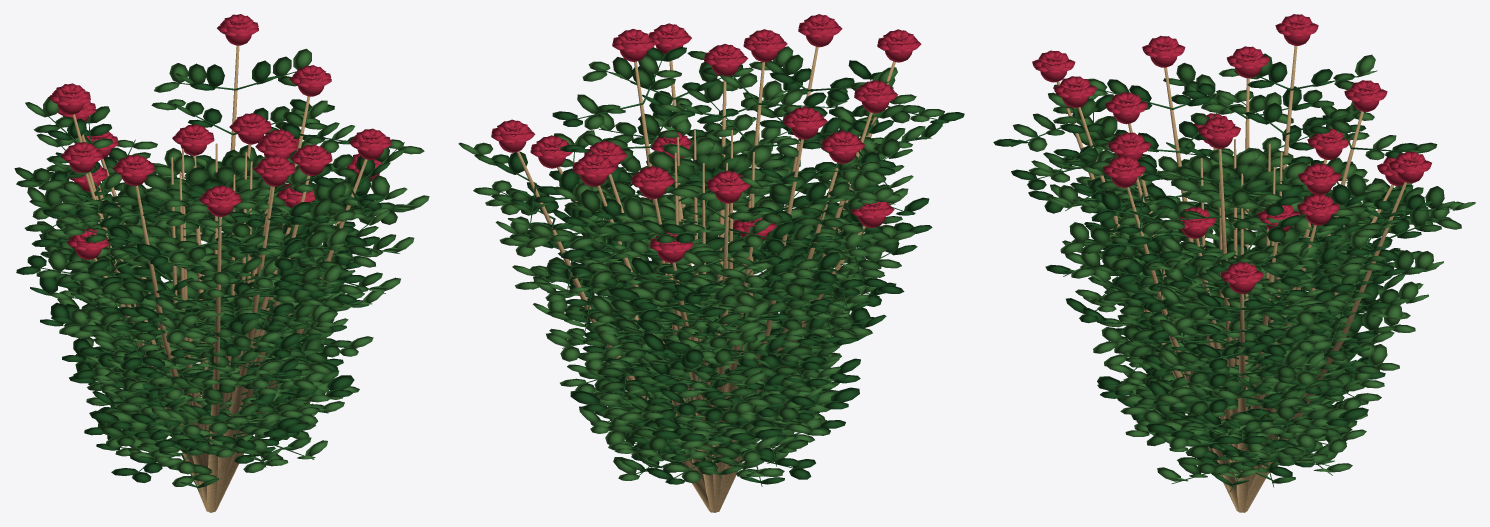
Rendered from hq_rose_cc0_drawmerged.glb.
The picture shows the model from 3 angles, left to right: view 1: azimuth 30°, elevation 25°; view 2: azimuth 150°, elevation 25°; view 3: azimuth 270°, elevation 25°; orthographic projection. The views are drawn at different scales.
Visible parts, largest first — view 1: Small curved compound rose leaflets 2, Small curved compound rose leaflets 1, Small curved compound rose leaflets 0, Layered rounded rose petals, Inner leafy rose cane, Rose compound leaf stalks; view 2: Small curved compound rose leaflets 2, Small curved compound rose leaflets 0, Small curved compound rose leaflets 1, Layered rounded rose petals, Inner leafy rose cane, Rose compound leaf stalks; view 3: Small curved compound rose leaflets 1, Small curved compound rose leaflets 2, Small curved compound rose leaflets 0, Layered rounded rose petals, Inner leafy rose cane, Rose compound leaf stalks.
Part boxes in pixels (x1=…): Small curved compound rose leaflets 2: x1=25, y1=48, x2=429, y2=486; Small curved compound rose leaflets 1: x1=14, y1=56, x2=410, y2=473; Small curved compound rose leaflets 0: x1=16, y1=60, x2=394, y2=488; Layered rounded rose petals: x1=48, y1=14, x2=391, y2=259; Inner leafy rose cane: x1=72, y1=45, x2=367, y2=512; Rose compound leaf stalks: x1=31, y1=71, x2=414, y2=492; Small curved compound rose leaflets 2: x1=458, y1=46, x2=944, y2=483; Small curved compound rose leaflets 0: x1=493, y1=47, x2=964, y2=484; Small curved compound rose leaflets 1: x1=474, y1=47, x2=924, y2=475; Layered rounded rose petals: x1=491, y1=14, x2=921, y2=262; Inner leafy rose cane: x1=516, y1=46, x2=895, y2=512; Rose compound leaf stalks: x1=482, y1=51, x2=937, y2=486; Small curved compound rose leaflets 1: x1=1033, y1=53, x2=1454, y2=483; Small curved compound rose leaflets 2: x1=1013, y1=54, x2=1475, y2=481; Small curved compound rose leaflets 0: x1=993, y1=62, x2=1433, y2=486; Layered rounded rose petals: x1=1032, y1=14, x2=1431, y2=293; Inner leafy rose cane: x1=1056, y1=46, x2=1406, y2=512; Rose compound leaf stalks: x1=1011, y1=74, x2=1452, y2=492.
Size of the model in its own units: 0.8689 by 0.9753 by 0.9755.
6 materials, 6 textured.
